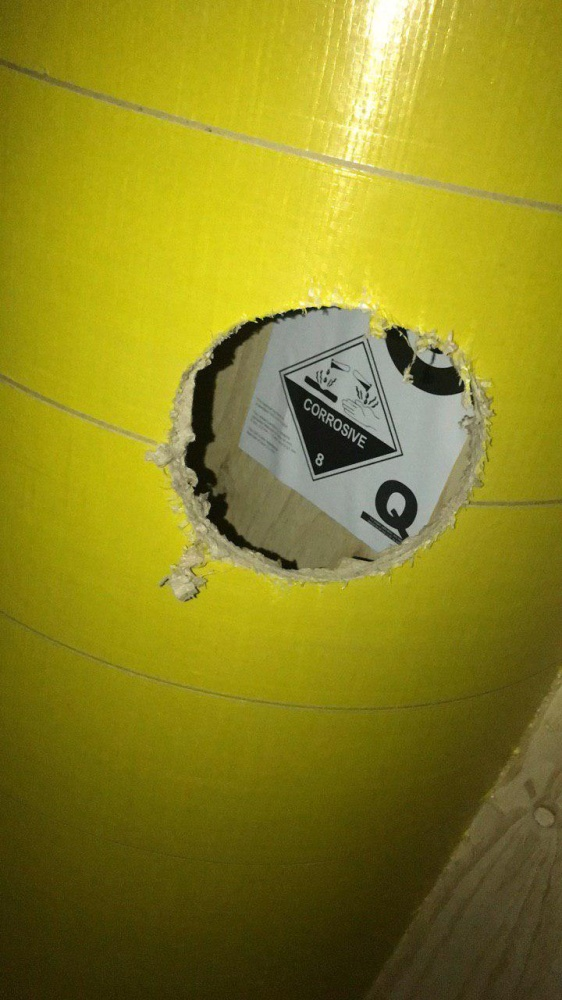Corrosive: (278, 333, 404, 481)
